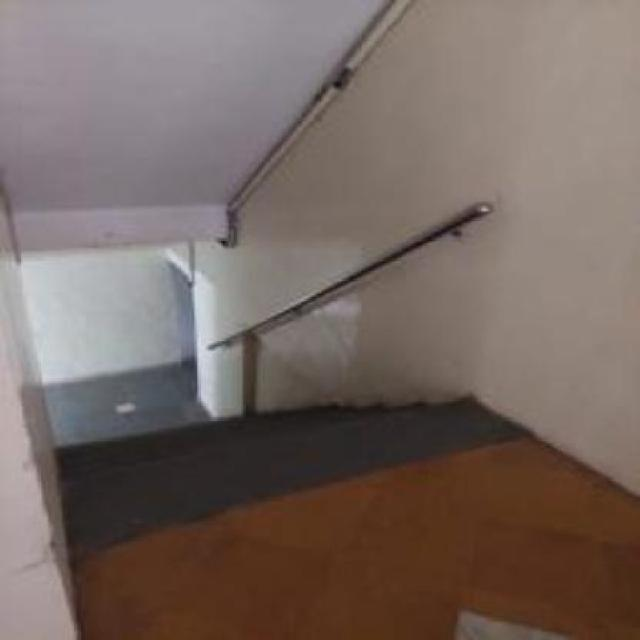stair: (54, 378, 520, 509)
